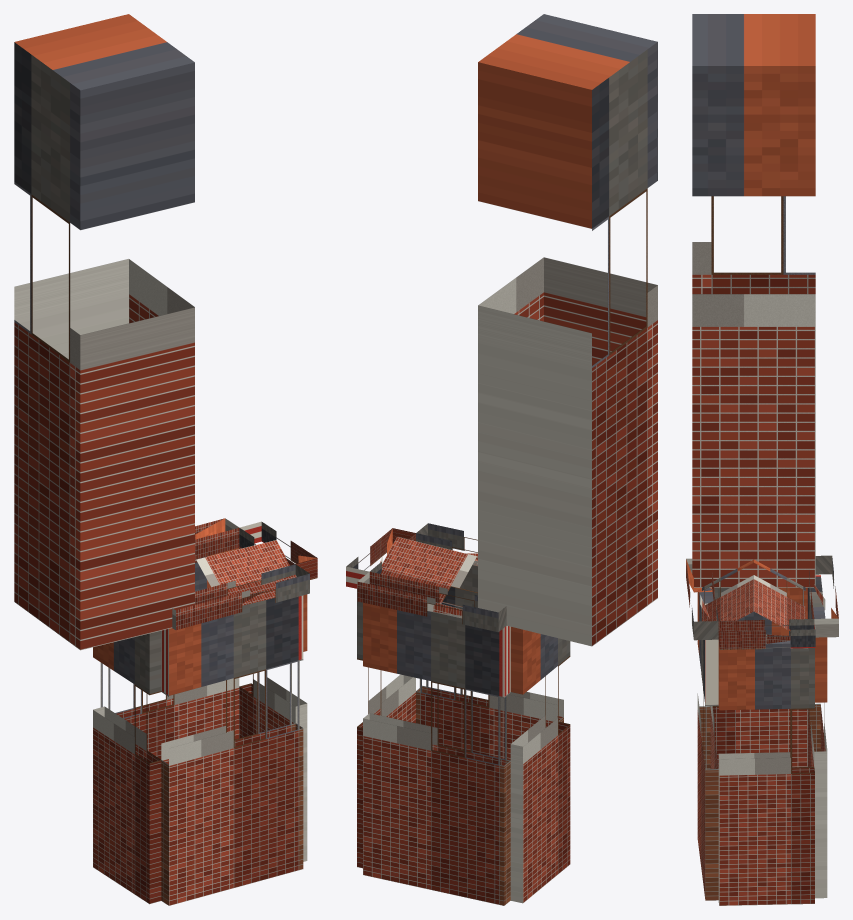
The picture shows the model from 3 angles, left to right: view 1: azimuth 30°, elevation 25°; view 2: azimuth 150°, elevation 25°; view 3: azimuth 270°, elevation 25°; orthographic projection. The views are drawn at different scales.
Parts seen in each view (by area): view 1: 1106967116__chimney_0_xb, 1106967116__wall_0_xb, 1106967116__wall_1_xb, 1106967116__wall_2_xb, 1106967116__wall_3_xb, 1106967116_roof_-1_xb, 1106967116__cornice_0, 1106967116__cornice_2, 1106967116__cornice_3; view 2: 1106967116__chimney_0_xb, 1106967116__wall_2_xb, 1106967116__wall_1_xb, 1106967116__wall_0_xb, 1106967116__cornice_2, 1106967116_roof_1_xb, 1106967116__wall_3_xb, 1106967116__cornice_3, 1106967116__cornice_0; view 3: 1106967116__chimney_0_xb, 1106967116__wall_3_xb, 1106967116__wall_0_xb, 1106967116__wall_1_xb, 1106967116__wall_2_xb, 1106967116__cornice_3, 1106967116_roof_1_xb, 1106967116_roof_-1_xb, 1106967116__cornice_2, 1106967116__cornice_0.
Part boxes in pixels (x1,y1,x2,y2): 1106967116__chimney_0_xb: (14,14,194,650); 1106967116__wall_0_xb: (161,595,303,905); 1106967116__wall_1_xb: (93,631,161,904); 1106967116__wall_2_xb: (100,548,239,759); 1106967116__wall_3_xb: (239,548,307,861); 1106967116_roof_-1_xb: (196,540,296,605); 1106967116__cornice_0: (172,564,309,630); 1106967116__cornice_2: (195,518,239,559); 1106967116__cornice_3: (239,521,317,579); 1106967116__chimney_0_xb: (478,14,657,646); 1106967116__wall_2_xb: (363,602,510,905); 1106967116__wall_1_xb: (510,627,570,903); 1106967116__wall_0_xb: (416,561,563,760); 1106967116__cornice_2: (357,571,506,632); 1106967116_roof_1_xb: (381,537,477,607); 1106967116__wall_3_xb: (357,589,415,868); 1106967116__cornice_3: (346,528,415,588); 1106967116__cornice_0: (416,523,477,565); 1106967116__chimney_0_xb: (692,14,815,587); 1106967116__wall_3_xb: (718,641,814,905); 1106967116__wall_0_xb: (697,587,718,900); 1106967116__wall_1_xb: (712,587,807,768); 1106967116__wall_2_xb: (807,574,827,898); 1106967116__cornice_3: (718,619,815,649); 1106967116_roof_1_xb: (754,559,805,630); 1106967116_roof_-1_xb: (702,559,753,626); 1106967116__cornice_2: (809,555,838,637); 1106967116__cornice_0: (686,558,718,640).
Bounding box in the file's own units: 0.3298 × 1.05 × 0.186.
1 material, 1 textured.
